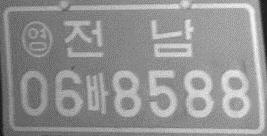0: (19, 69, 49, 116)
5: (147, 68, 178, 118)
6: (53, 69, 83, 118)
8: (183, 68, 214, 119), (219, 68, 250, 119), (111, 68, 142, 117)
바: (85, 72, 109, 116)
영: (20, 20, 53, 58)
전남_D: (61, 18, 195, 58)
